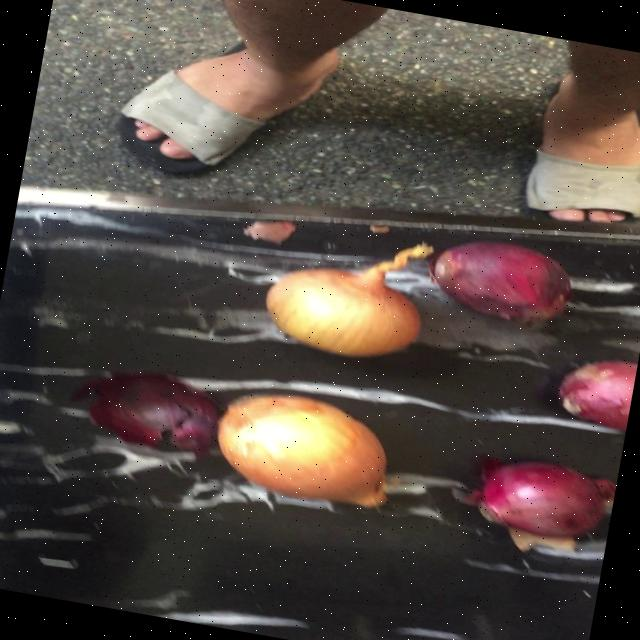Onion: (217, 394, 386, 506), (265, 242, 432, 355), (431, 240, 571, 320), (481, 460, 606, 536), (559, 360, 637, 429)
